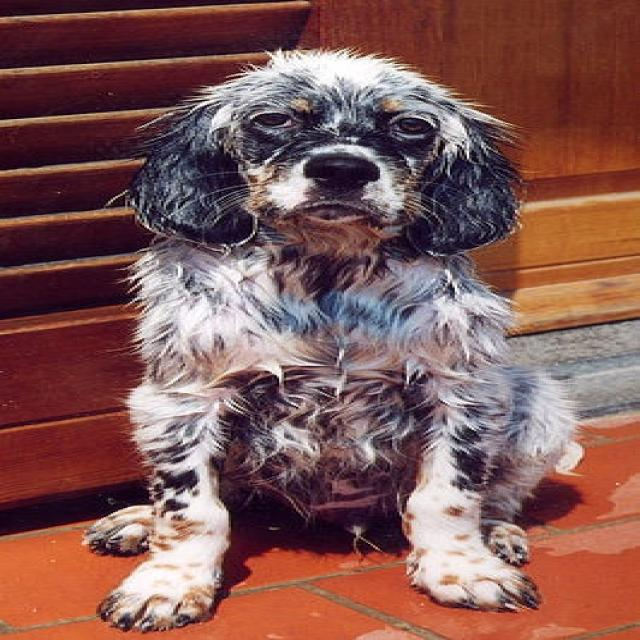dog-english_setter: (55, 40, 592, 637)
